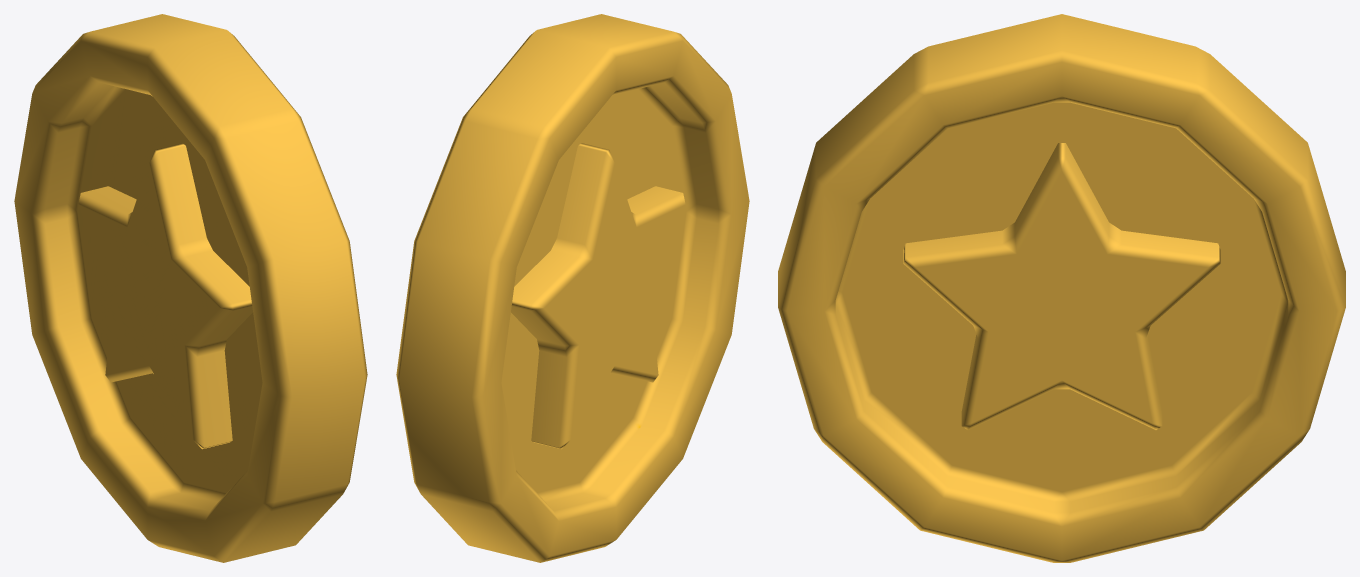
The model's file is coin.fbx.
3 renders of one model, left to right at view 1: azimuth 30°, elevation 25°; view 2: azimuth 150°, elevation 25°; view 3: azimuth 270°, elevation 25°, orthographic. The views are drawn at different scales.
Visible parts, largest first — view 1: coin; view 2: coin; view 3: coin.
Boxes of the visible parts, left/top/right/bottom form: coin: left=14, top=14, right=367, bottom=562; coin: left=396, top=14, right=749, bottom=562; coin: left=778, top=14, right=1345, bottom=562.
Bounding box in the file's own units: 0.1069 × 0.5854 × 0.583.
